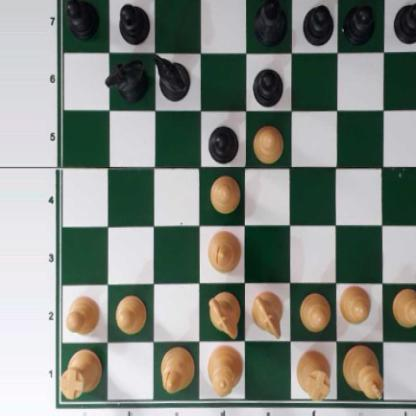black-bishop: (253, 0, 288, 45)
black-knight: (153, 53, 190, 100), (109, 57, 147, 102)
black-pawn: (65, 0, 99, 40), (118, 0, 148, 44), (252, 66, 284, 107), (344, 2, 375, 44), (208, 123, 239, 164), (303, 4, 332, 45), (393, 0, 416, 44)
white-bishop: (159, 345, 193, 395), (208, 229, 241, 273)
white-king: (343, 344, 382, 401)
white-knight: (251, 290, 283, 337), (208, 293, 241, 338)
white-pawn: (63, 294, 101, 334), (340, 283, 371, 325), (114, 294, 147, 333), (209, 172, 240, 212), (252, 123, 284, 161), (300, 292, 330, 331), (391, 287, 416, 326)
white-queen: (208, 341, 241, 401)
white-rook: (59, 347, 102, 398), (296, 351, 331, 399)
